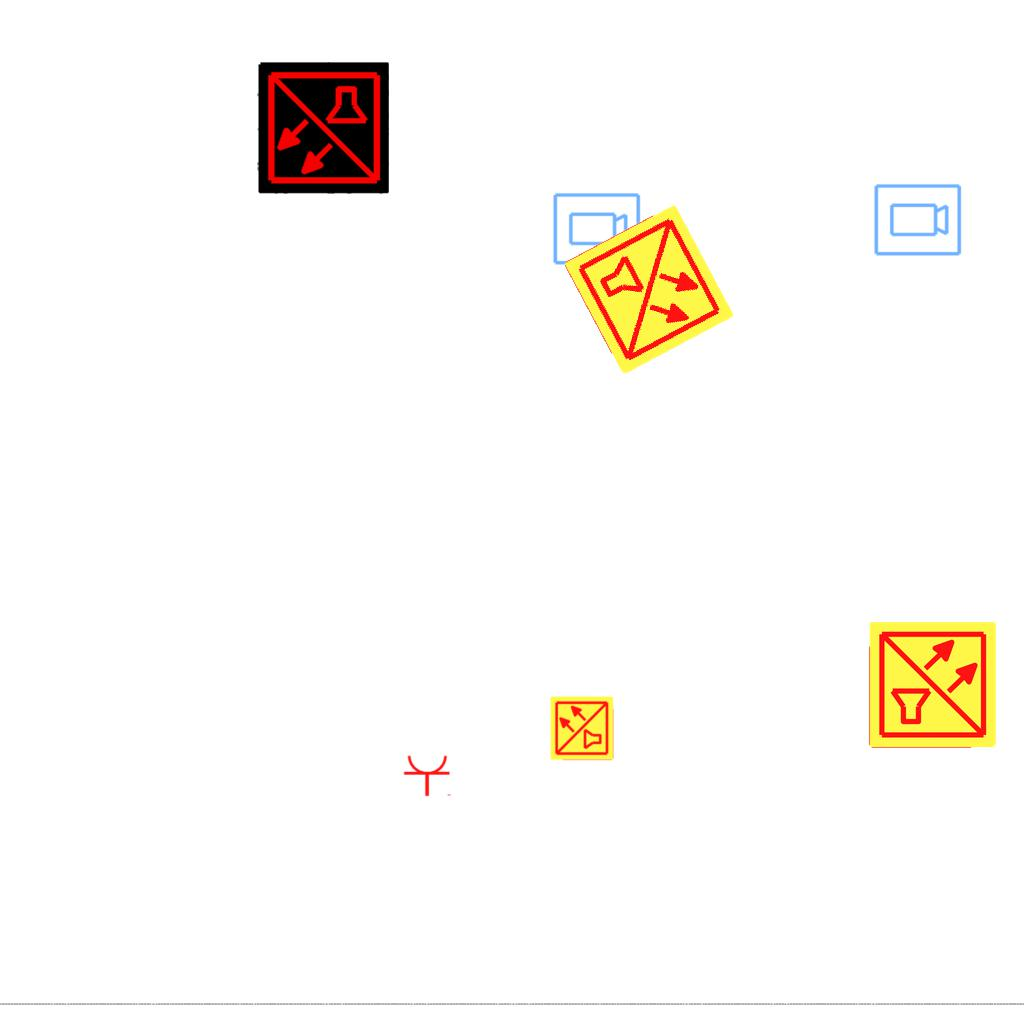KFO_Kamera_mit_Festobjektiv: (872, 182, 963, 259), (551, 191, 642, 268)
OKW_Multisensormelder_(Kombination_optischer_Rauch-Kahlenmonoxid_Waerme-Melder): (559, 200, 739, 380), (257, 62, 389, 194), (867, 619, 999, 751), (549, 695, 615, 761)
Schukosteckdose_einfach: (403, 754, 453, 797)
